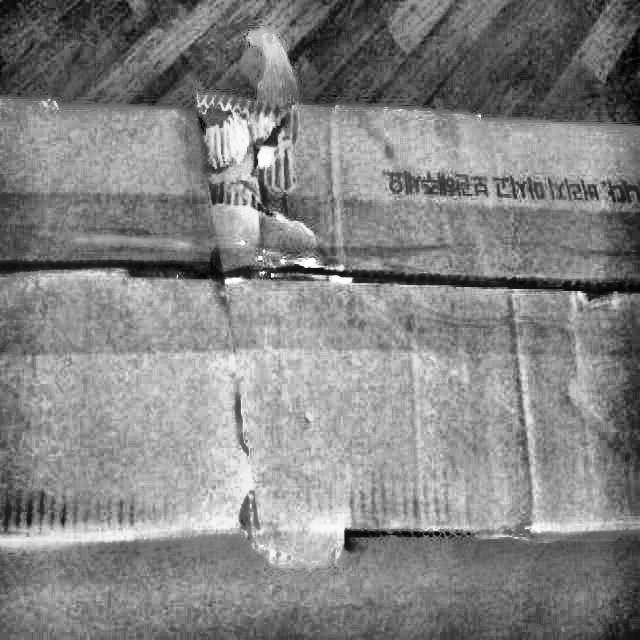box: (2, 17, 639, 575)
hole: (183, 100, 307, 210)
